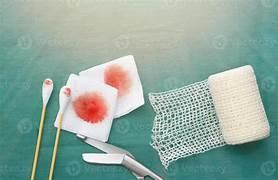cotton: (149, 66, 270, 167), (62, 56, 143, 140), (149, 80, 225, 167), (208, 65, 269, 144), (79, 55, 143, 117), (62, 74, 116, 141), (42, 79, 53, 106)
